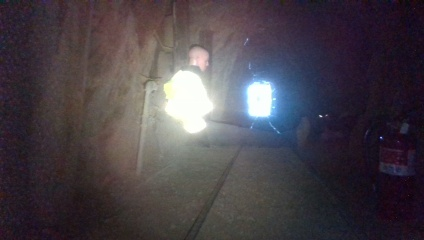fire_extinguisher: (361, 108, 422, 228)
manikin: (162, 47, 242, 150)
